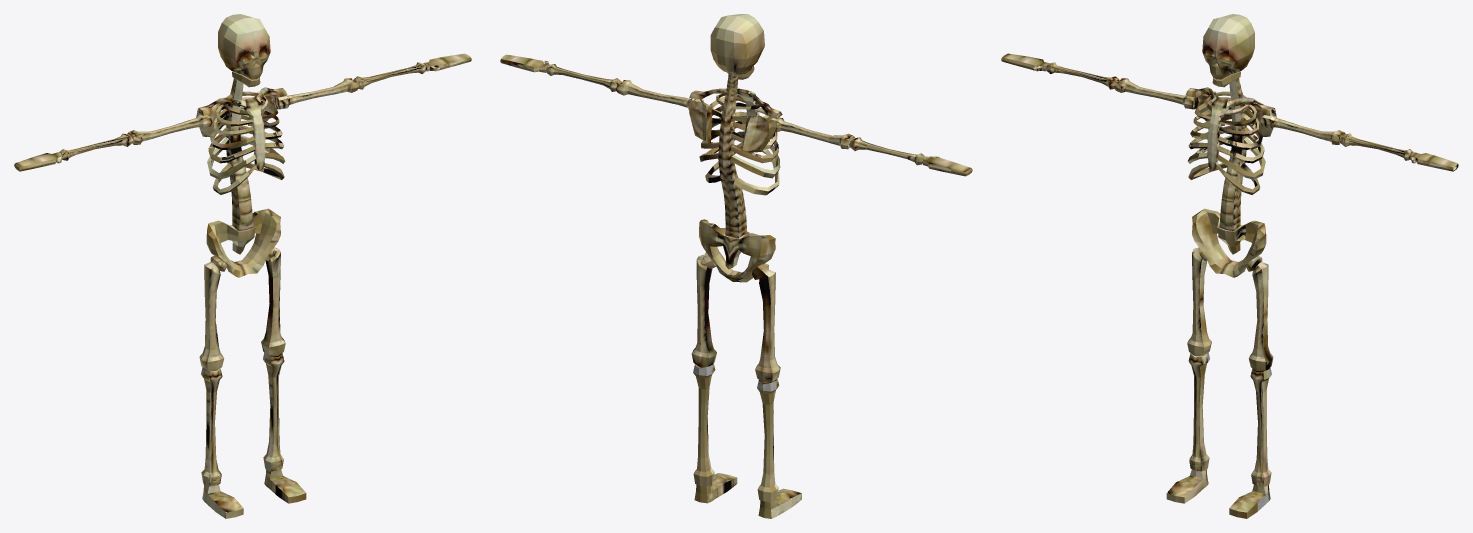
Rendered from ECSskeletonSeparateMesh.fbx.
The picture shows the model from 3 angles, left to right: view 1: azimuth 30°, elevation 25°; view 2: azimuth 150°, elevation 25°; view 3: azimuth 330°, elevation 25°; orthographic projection. The views are drawn at different scales.
Visible parts, largest first — view 1: body, R_shin, L_shin, R_leg, L_leg, R_hand, L_hand, L_arm, R_arm; view 2: body, R_shin, L_shin, R_leg, L_leg, R_hand, L_hand, R_arm, L_arm; view 3: body, L_shin, R_shin, L_leg, R_leg, L_hand, R_hand, R_arm, L_arm.
Boxes of the visible parts, x1,y1,x2,y2 form: body: [196, 14, 287, 277]; R_shin: [201, 367, 243, 518]; L_shin: [263, 353, 306, 503]; R_leg: [199, 256, 227, 370]; L_leg: [261, 247, 285, 355]; R_hand: [14, 133, 133, 171]; L_hand: [353, 53, 471, 89]; L_arm: [273, 78, 358, 109]; R_arm: [127, 114, 212, 144]; body: [688, 14, 782, 282]; R_shin: [757, 378, 801, 518]; L_shin: [693, 363, 737, 503]; R_leg: [752, 263, 780, 382]; L_leg: [691, 252, 716, 366]; R_hand: [849, 137, 972, 176]; L_hand: [500, 54, 621, 91]; R_arm: [770, 117, 854, 149]; L_arm: [616, 80, 704, 110]; body: [1185, 14, 1276, 277]; L_shin: [1229, 367, 1271, 518]; R_shin: [1166, 353, 1209, 503]; L_leg: [1245, 256, 1273, 370]; R_leg: [1187, 247, 1211, 355]; L_hand: [1339, 133, 1458, 171]; R_hand: [1001, 53, 1119, 89]; R_arm: [1114, 78, 1199, 109]; L_arm: [1260, 114, 1345, 144].
Bounding box in the file's own units: 201 × 201 × 28.44.
1 material, 1 textured.
